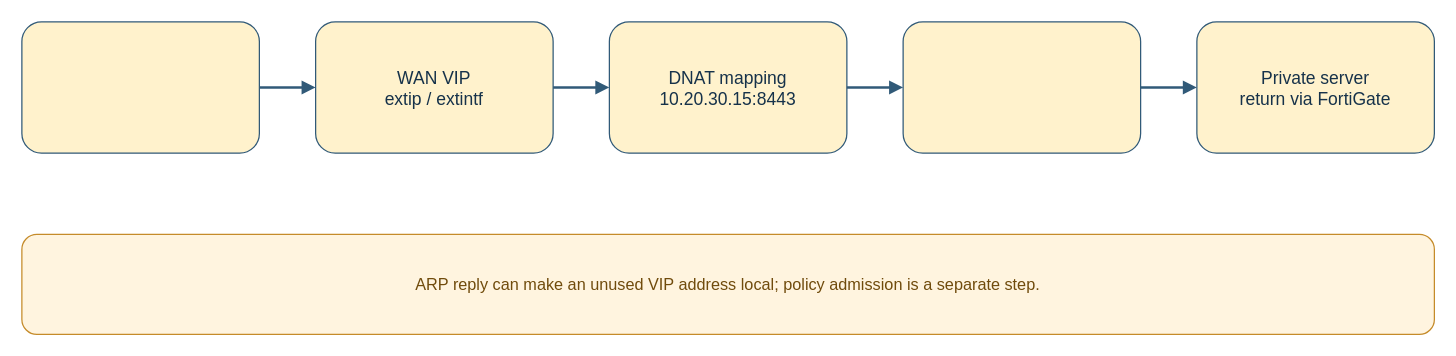
Some shapes in this 1456 by 356 pixel diagram are drawn without their labels. Each missing label, with the centre of its shape:
"Firewall policy destination = VIP" goes at (1021,87).
"Internet client 203.0.113.10:443" goes at (140,87).
